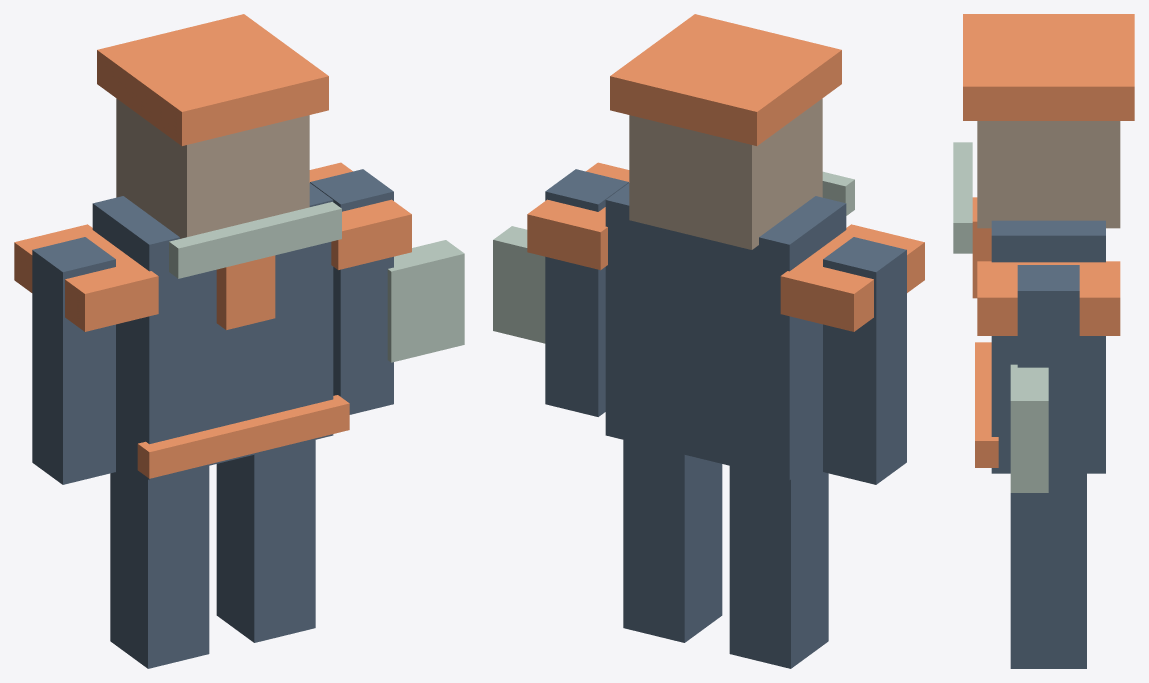
The model's file is 05_sable_trenchmark_archivist_at_lunar.glb.
3 renders of one model, left to right at view 1: azimuth 30°, elevation 25°; view 2: azimuth 150°, elevation 25°; view 3: azimuth 270°, elevation 25°, orthographic.
Parts seen in each view (by area): view 1: Sable Trenchmark, Archivist at Lunar; view 2: Sable Trenchmark, Archivist at Lunar; view 3: Sable Trenchmark, Archivist at Lunar.
Boxes of the visible parts, x1,y1,x2,y2 form: Sable Trenchmark, Archivist at Lunar: (14, 14, 464, 668); Sable Trenchmark, Archivist at Lunar: (493, 14, 924, 668); Sable Trenchmark, Archivist at Lunar: (953, 14, 1134, 668).
Size of the model in its own units: 1.04 by 1.43 by 0.407.
